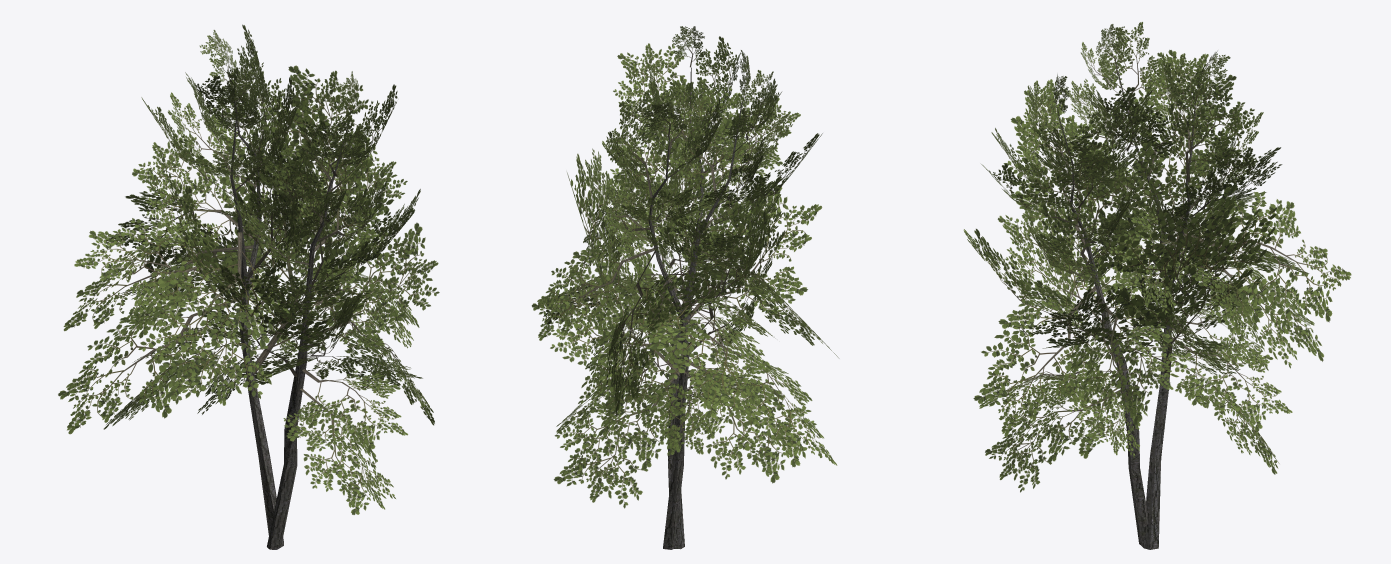
The model's file is tree3.glb.
The picture shows the model from 3 angles, left to right: view 1: azimuth 30°, elevation 25°; view 2: azimuth 150°, elevation 25°; view 3: azimuth 270°, elevation 25°; orthographic projection. The views are drawn at different scales.
Parts seen in each view (by area): view 1: Tree-01-1; view 2: Tree-01-1; view 3: Tree-01-1.
Part boxes in pixels (x1=…): Tree-01-1: x1=58, y1=24, x2=439, y2=549; Tree-01-1: x1=531, y1=26, x2=839, y2=549; Tree-01-1: x1=963, y1=22, x2=1351, y2=549.
Bounding box in the file's own units: 5.06 × 7.39 × 6.17.
Materials: 3 (3 with a texture image).
